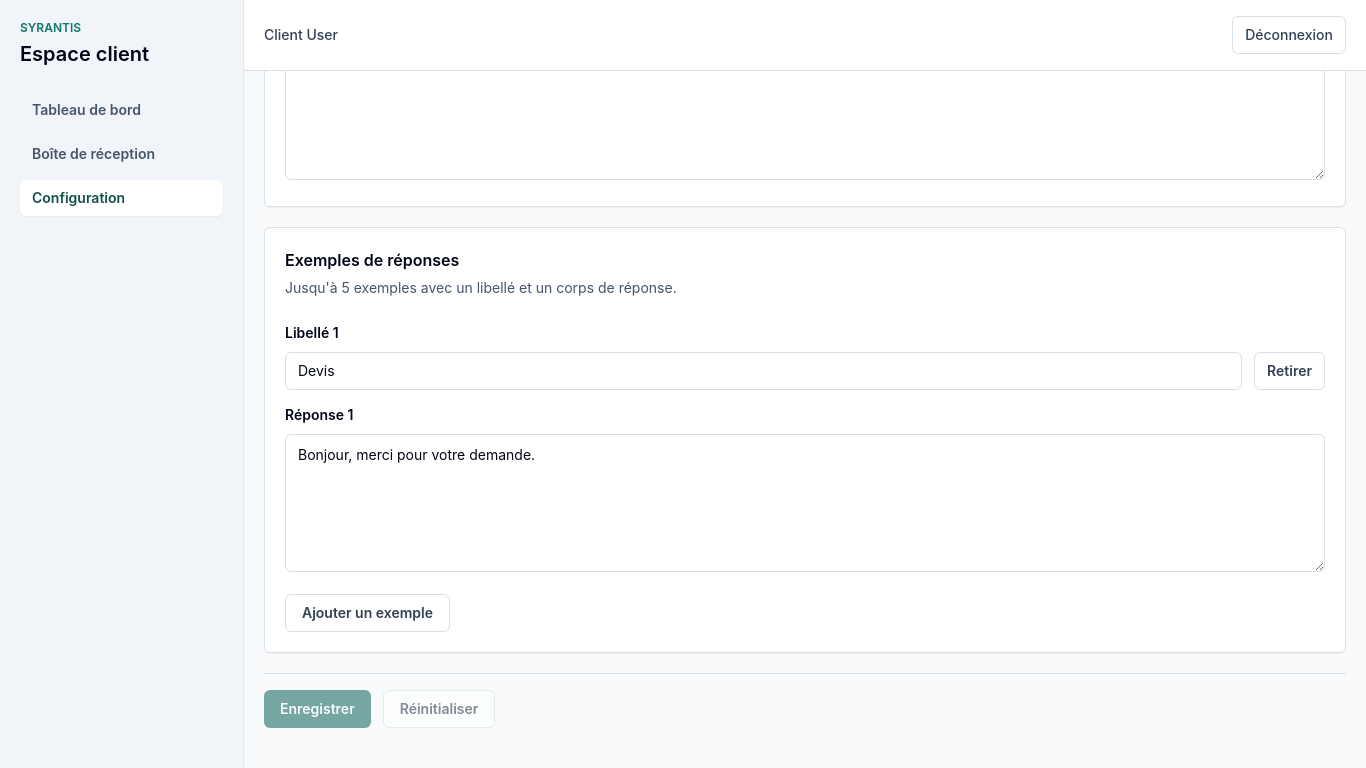
Scenario: admin app › shows client config validation errors safely
This screenshot has width=1366, height=768.
(page scrolled)
Click the button "Ajouter un exemple".
click(368, 613)  # box top-left (285, 594), bottom-right (450, 632)
(page scrolled)
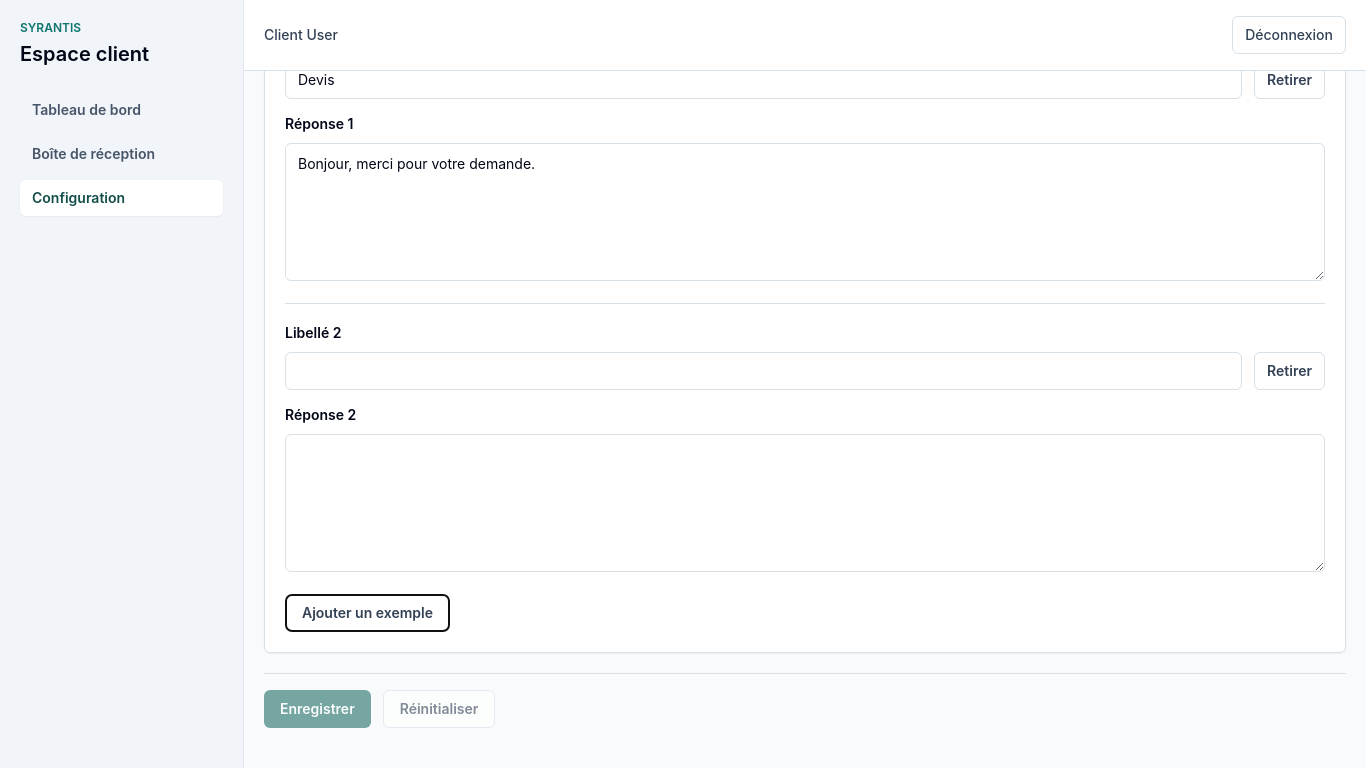
Type "Réponse sans libellé." into the text box labelled "Réponse 2".
click(805, 503); type("Réponse sans libellé.")  # box top-left (285, 434), bottom-right (1325, 572)
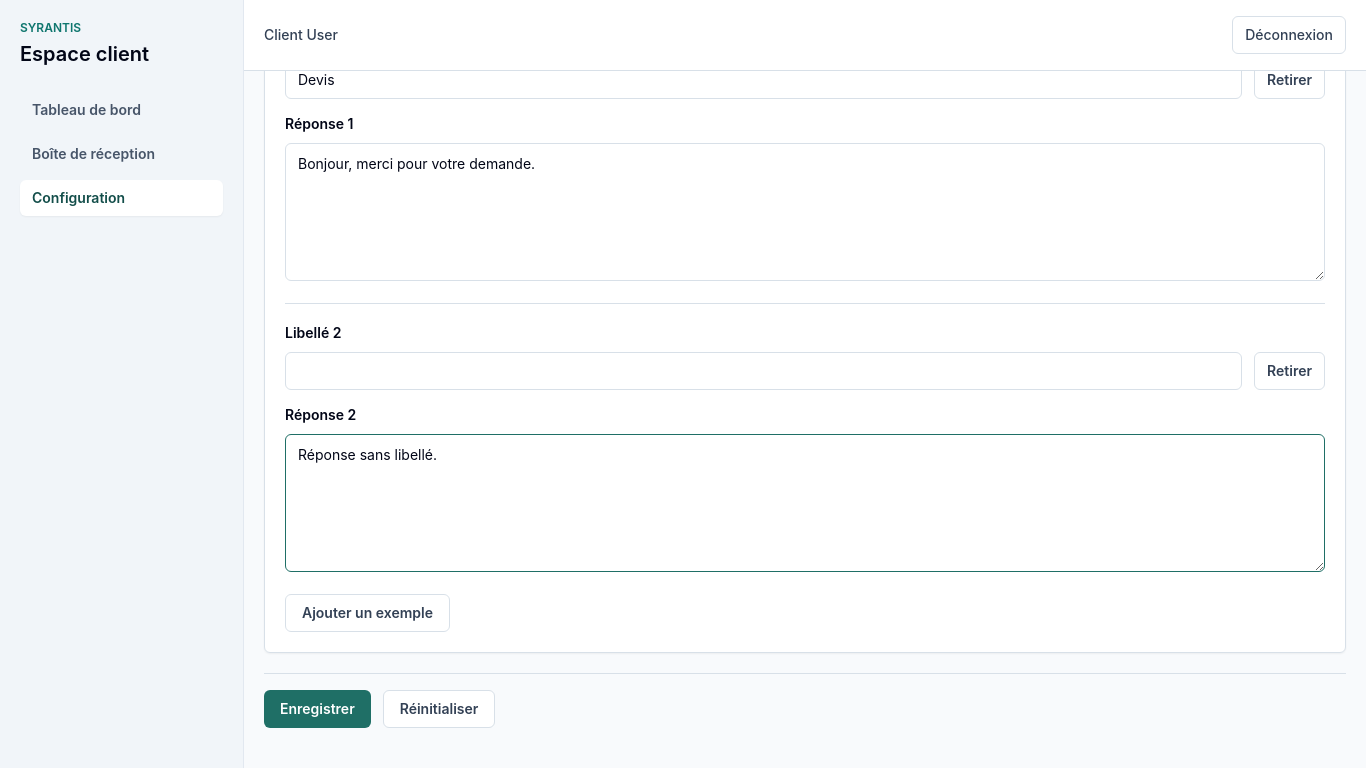
Click the button "Enregistrer".
click(317, 709)  # box top-left (264, 690), bottom-right (371, 728)
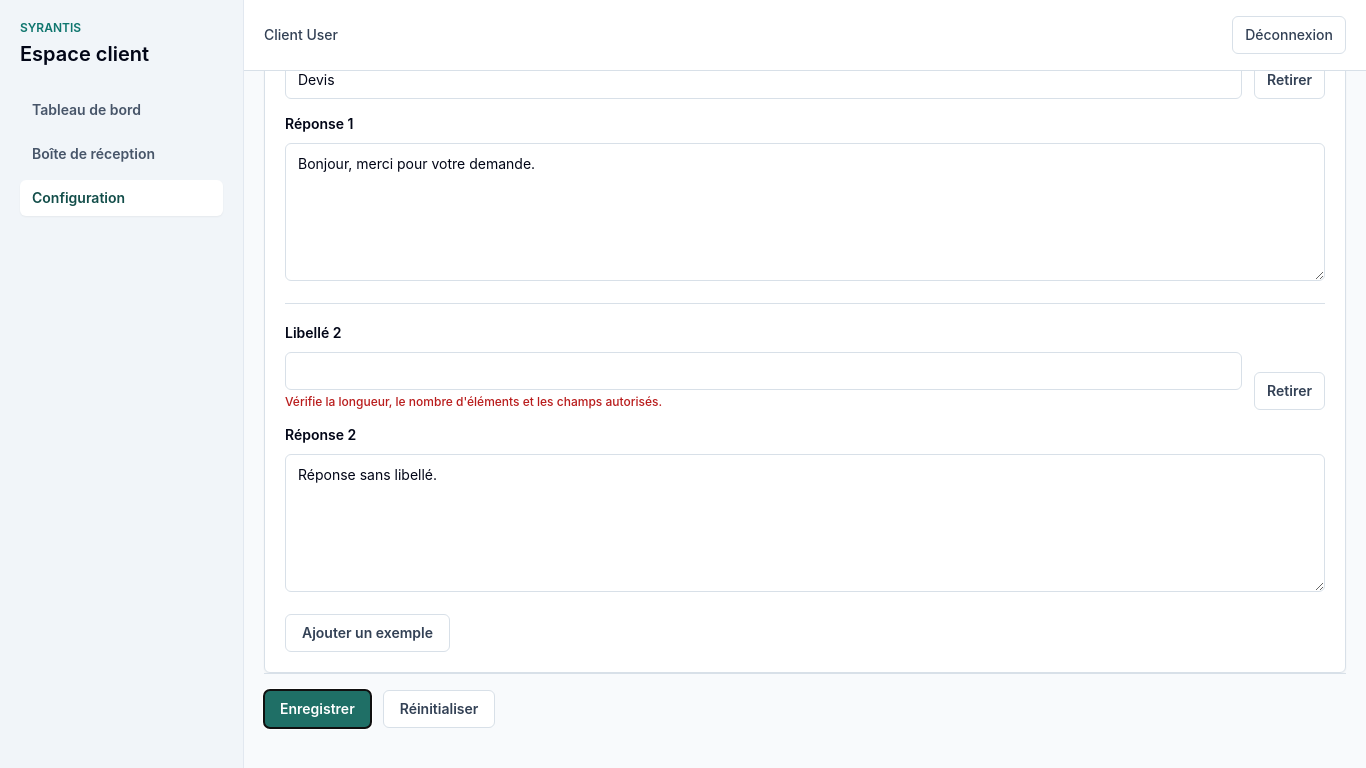
Expected: the text "Certains champs dépassent les limites prévues." is shown, top-left (264, 694), bottom-right (583, 711)
Expected: the text "Vérifie la longueur, le nombre d'éléments et les champs autorisés." is shown, top-left (285, 394), bottom-right (662, 409)
